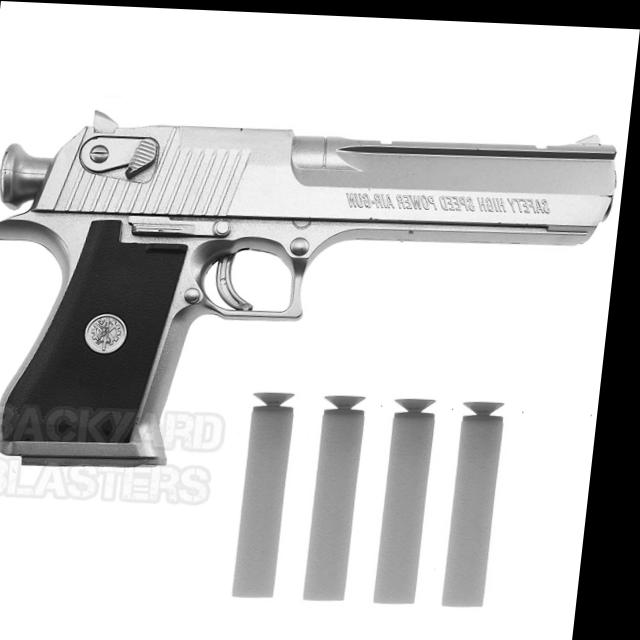handgun: (0, 91, 631, 475)
